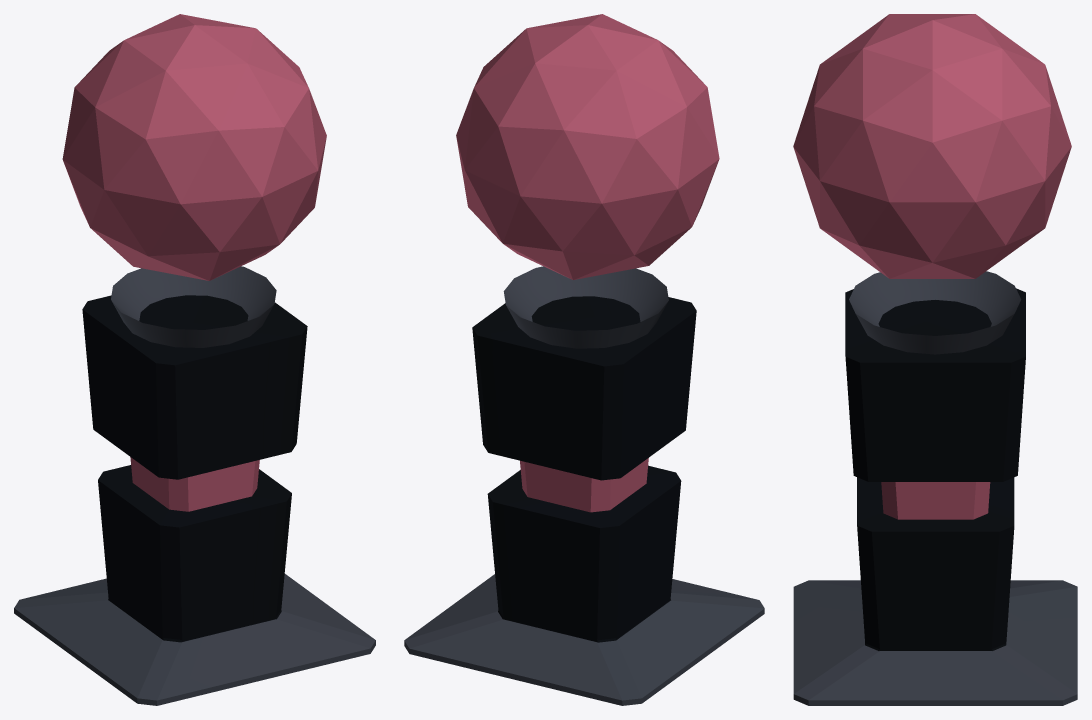
The model's file is autel demoniaque.fbx.
The picture shows the model from 3 angles, left to right: view 1: azimuth 30°, elevation 25°; view 2: azimuth 150°, elevation 25°; view 3: azimuth 270°, elevation 25°; orthographic projection. The views are drawn at different scales.
Parts seen in each view (by area): view 1: Cylinder.002; view 2: Cylinder.002; view 3: Cylinder.002.
Boxes of the visible parts, bbox=[...] form: Cylinder.002: bbox=[14, 14, 375, 705]; Cylinder.002: bbox=[404, 14, 764, 705]; Cylinder.002: bbox=[793, 14, 1077, 705].
Bounding box in the file's own units: 810 × 1967 × 812.
